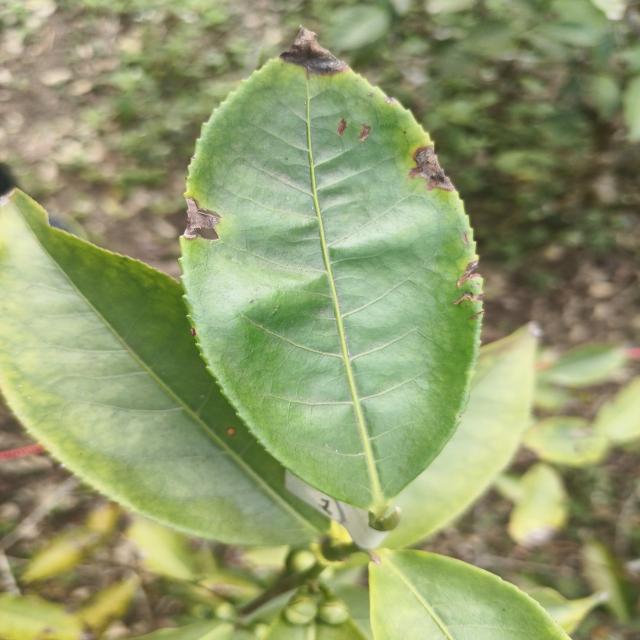Leaf: (180, 30, 482, 514), (0, 191, 329, 545), (383, 325, 537, 549), (369, 549, 570, 640), (508, 463, 567, 547), (126, 516, 199, 581), (523, 416, 610, 467), (540, 344, 626, 387)
